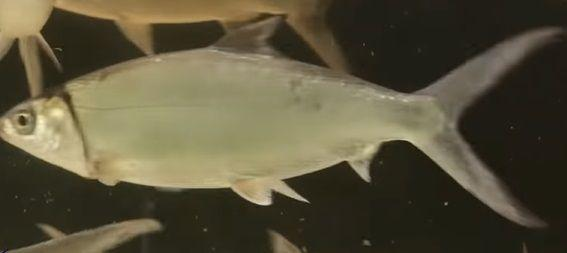Bangus: (0, 17, 566, 229)
